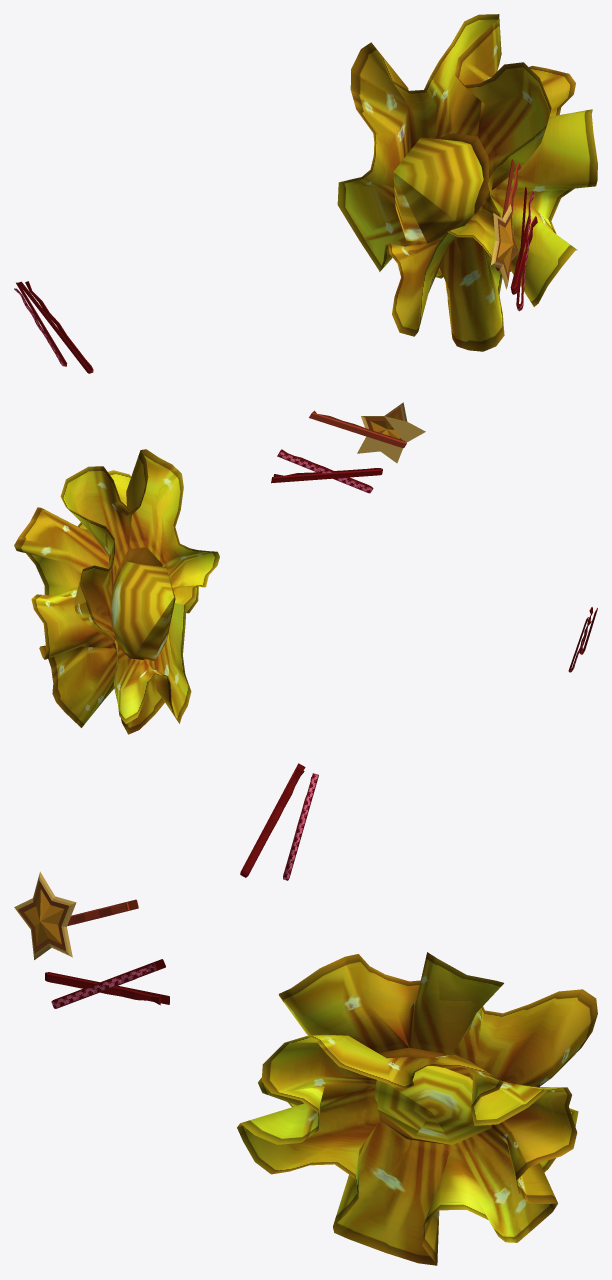
Rendered from misaki.obj.
3 renders of one model, top to bottom at view 1: azimuth 30°, elevation 25°; view 2: azimuth 150°, elevation 25°; view 3: azimuth 270°, elevation 25°, orthographic. The views are drawn at different scales.
Parts seen in each view (by area): view 1: Model001_40_acs 2_0.1_16_16.008, Model001_40_acs 3_0.1_16_16.008, Model001_40_acs_0.1_16_16.009; view 2: Model001_40_acs 2_0.1_16_16.008, Model001_40_acs 3_0.1_16_16.008, Model001_40_acs_0.1_16_16.009; view 3: Model001_40_acs 2_0.1_16_16.008, Model001_40_acs_0.1_16_16.009, Model001_40_acs 3_0.1_16_16.008.
Part boxes in pixels (x1=…): Model001_40_acs 2_0.1_16_16.008: x1=337, y1=14, x2=597, y2=351; Model001_40_acs 3_0.1_16_16.008: x1=393, y1=137, x2=483, y2=243; Model001_40_acs_0.1_16_16.009: x1=14, y1=159, x2=537, y2=373; Model001_40_acs 2_0.1_16_16.008: x1=14, y1=449, x2=219, y2=734; Model001_40_acs 3_0.1_16_16.008: x1=111, y1=561, x2=175, y2=660; Model001_40_acs_0.1_16_16.009: x1=271, y1=402, x2=597, y2=672; Model001_40_acs 2_0.1_16_16.008: x1=237, y1=952, x2=597, y2=1265; Model001_40_acs_0.1_16_16.009: x1=14, y1=763, x2=318, y2=1008; Model001_40_acs 3_0.1_16_16.008: x1=374, y1=1066, x2=491, y2=1145.
Size of the model in its own units: 0.2105 by 0.1018 by 0.1624.
